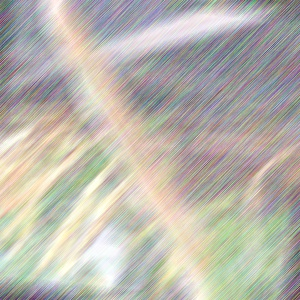Leaf_Blast: (161, 191, 230, 300)
